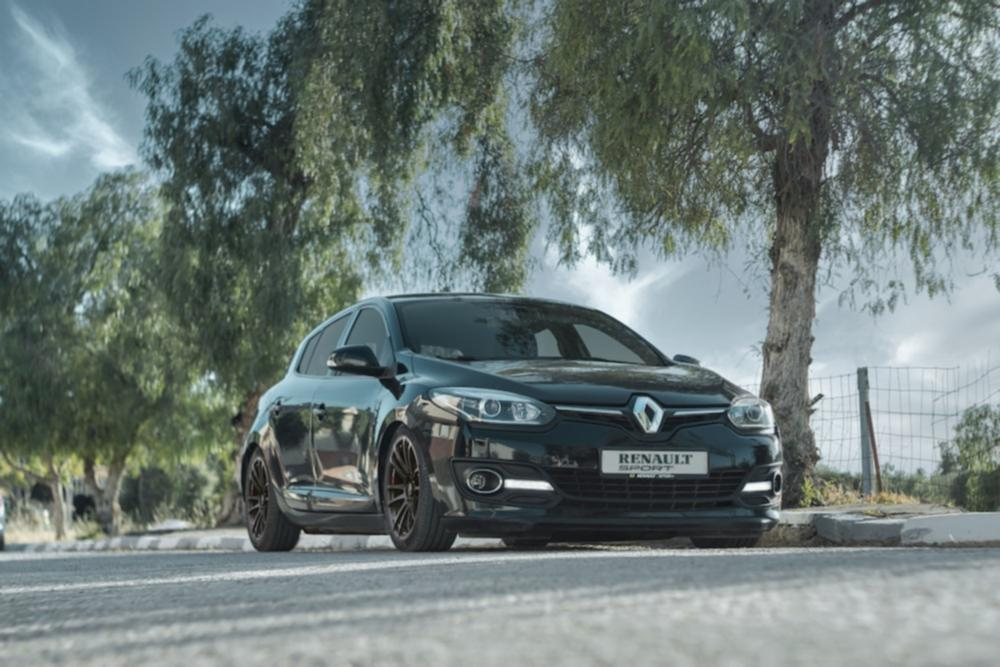Renault: (626, 391, 669, 438)
